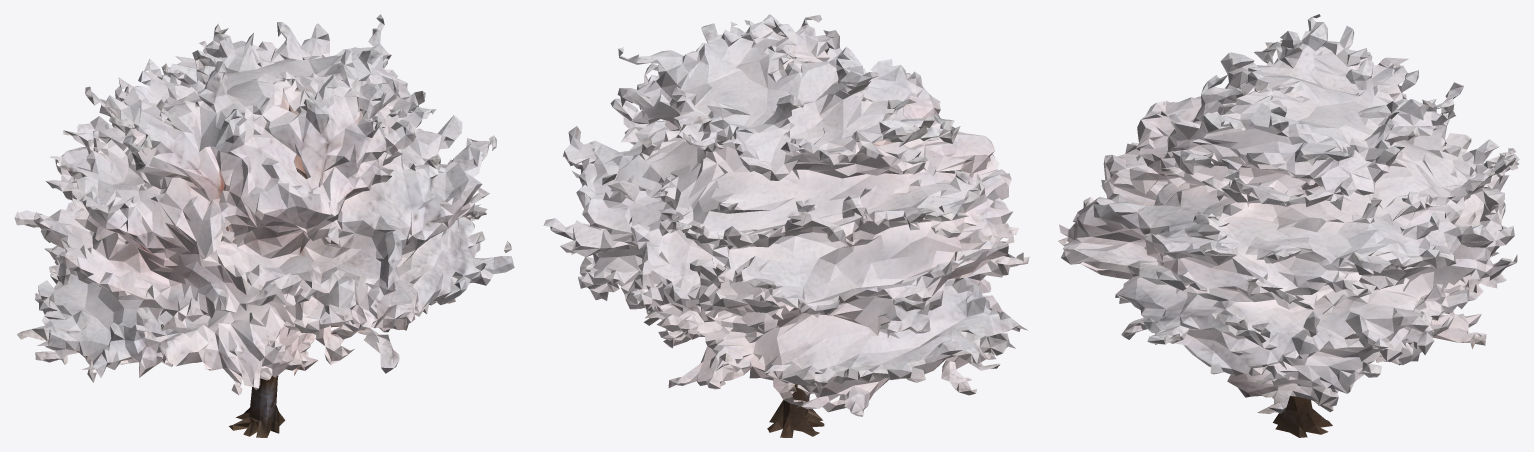
The model's file is source.glb.
The picture shows the model from 3 angles, left to right: view 1: azimuth 30°, elevation 25°; view 2: azimuth 150°, elevation 25°; view 3: azimuth 270°, elevation 25°; orthographic projection. The views are drawn at different scales.
Visible parts, largest first — view 1: model; view 2: model; view 3: model.
Part boxes in pixels (left/top/right/bottom): model: left=14, top=14, right=514, bottom=437; model: left=543, top=14, right=1029, bottom=437; model: left=1058, top=14, right=1519, bottom=437.
Size of the model in its own units: 1.9 by 1.61 by 1.8.
1 material, 1 textured.
